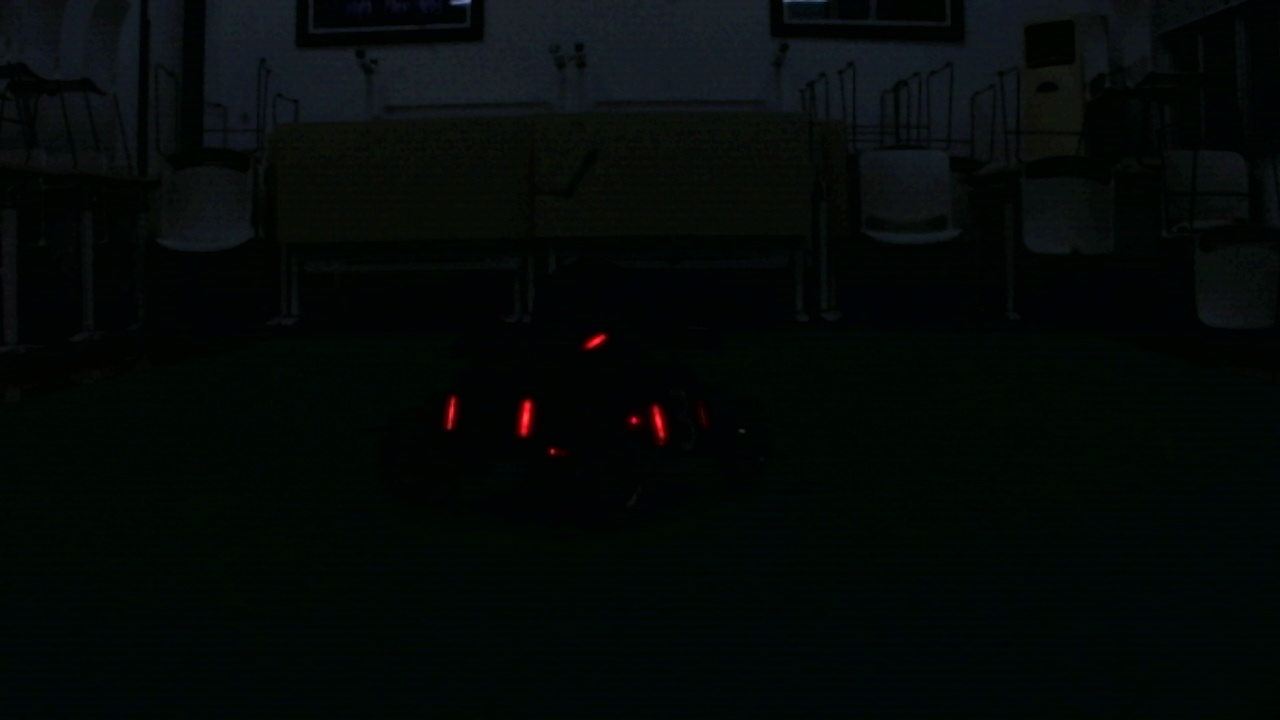lamp: (522, 394, 536, 438), (651, 407, 667, 438), (448, 394, 458, 429)
pair1: (445, 397, 532, 431)
